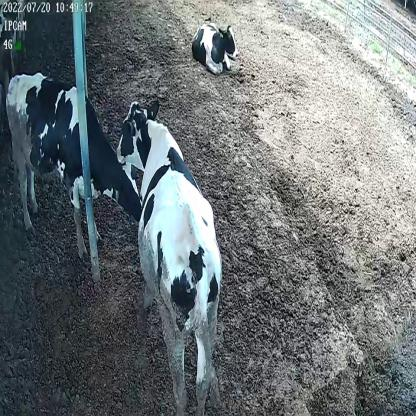cow: (116, 97, 224, 415), (5, 70, 143, 258), (190, 18, 241, 76)
